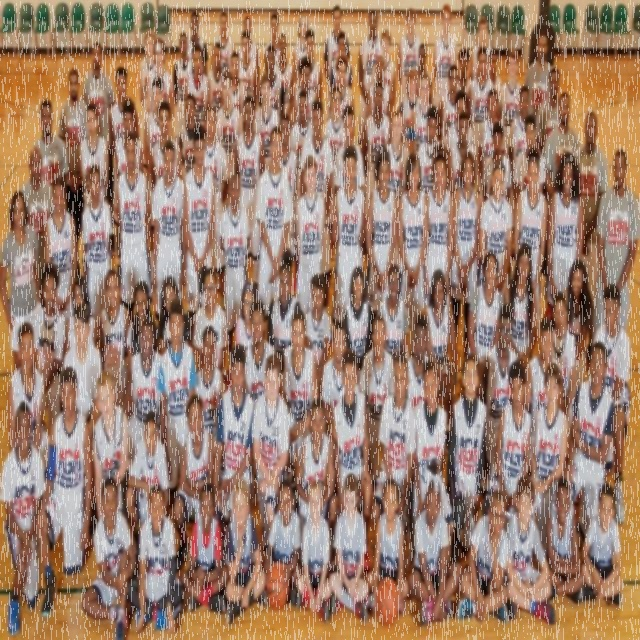pessoa: (36, 362, 94, 620), (0, 396, 45, 638), (563, 340, 616, 544), (330, 346, 373, 574), (482, 356, 532, 550), (592, 283, 632, 524), (215, 340, 258, 562), (406, 467, 464, 631), (172, 394, 224, 570), (81, 474, 136, 638), (447, 352, 488, 568), (594, 146, 640, 337), (126, 478, 180, 638), (502, 472, 557, 626), (254, 125, 293, 342), (444, 148, 480, 382), (250, 352, 290, 560), (156, 298, 198, 494), (0, 189, 43, 380), (298, 98, 335, 317), (454, 485, 510, 625), (81, 38, 117, 255), (477, 304, 521, 480), (182, 120, 215, 354), (372, 353, 414, 536), (570, 109, 608, 308), (124, 408, 170, 566), (218, 168, 252, 381), (198, 104, 230, 328), (296, 397, 338, 567), (222, 476, 269, 627), (232, 94, 266, 302), (330, 144, 368, 330), (56, 64, 89, 278), (366, 146, 400, 352), (326, 468, 370, 626), (546, 148, 584, 330), (410, 360, 450, 530), (397, 148, 430, 354), (116, 130, 152, 318), (513, 144, 548, 336), (281, 304, 321, 472), (6, 320, 49, 475), (180, 482, 230, 615), (522, 316, 563, 478), (152, 138, 188, 317), (366, 473, 411, 616), (424, 266, 458, 454), (540, 473, 586, 606), (530, 362, 568, 522), (81, 162, 114, 346), (293, 478, 333, 626), (578, 480, 624, 608), (19, 144, 54, 310), (126, 317, 164, 469), (91, 370, 129, 522), (359, 80, 394, 240), (62, 300, 102, 440), (294, 154, 328, 318), (262, 473, 302, 608), (466, 250, 506, 384), (423, 143, 455, 309), (508, 84, 538, 260), (98, 268, 133, 416), (549, 292, 577, 472), (478, 159, 513, 302), (44, 176, 78, 320), (503, 240, 539, 370), (561, 257, 593, 403), (289, 90, 314, 272), (191, 268, 229, 384), (358, 312, 397, 424), (192, 324, 224, 457), (466, 45, 494, 196), (543, 90, 581, 200), (214, 70, 243, 210), (303, 269, 333, 399), (148, 99, 184, 202), (242, 298, 276, 407), (78, 101, 109, 220), (357, 7, 383, 146), (342, 264, 374, 372), (266, 260, 302, 356), (535, 64, 560, 200), (31, 100, 69, 188), (376, 264, 410, 362), (320, 321, 350, 428), (334, 102, 366, 202), (278, 110, 299, 262), (124, 278, 158, 371), (432, 2, 460, 114), (513, 111, 546, 206), (156, 274, 192, 360), (63, 272, 99, 356), (138, 27, 160, 160), (396, 6, 424, 110), (524, 28, 556, 119), (497, 46, 523, 156), (252, 70, 280, 171), (112, 95, 144, 183), (478, 86, 506, 185), (480, 120, 512, 204), (172, 29, 195, 144), (416, 104, 444, 198), (384, 107, 411, 203), (108, 64, 140, 143), (406, 311, 431, 412), (147, 36, 176, 122), (323, 2, 351, 86), (450, 109, 478, 192), (185, 40, 211, 128), (236, 26, 260, 120), (372, 27, 398, 112), (257, 43, 285, 119), (143, 76, 164, 173), (398, 68, 422, 152), (272, 31, 294, 121), (366, 54, 394, 124), (324, 85, 347, 170), (468, 13, 496, 82), (444, 88, 474, 152), (291, 55, 317, 128), (178, 92, 198, 186), (328, 52, 356, 119), (436, 62, 459, 143), (210, 9, 237, 73), (234, 280, 257, 354), (413, 72, 433, 154), (207, 38, 228, 114), (186, 10, 208, 79), (228, 50, 248, 124), (454, 46, 472, 127), (330, 33, 352, 96), (292, 12, 309, 92), (412, 40, 432, 104), (237, 13, 260, 68), (262, 10, 282, 73), (304, 27, 320, 97), (487, 48, 504, 96)
